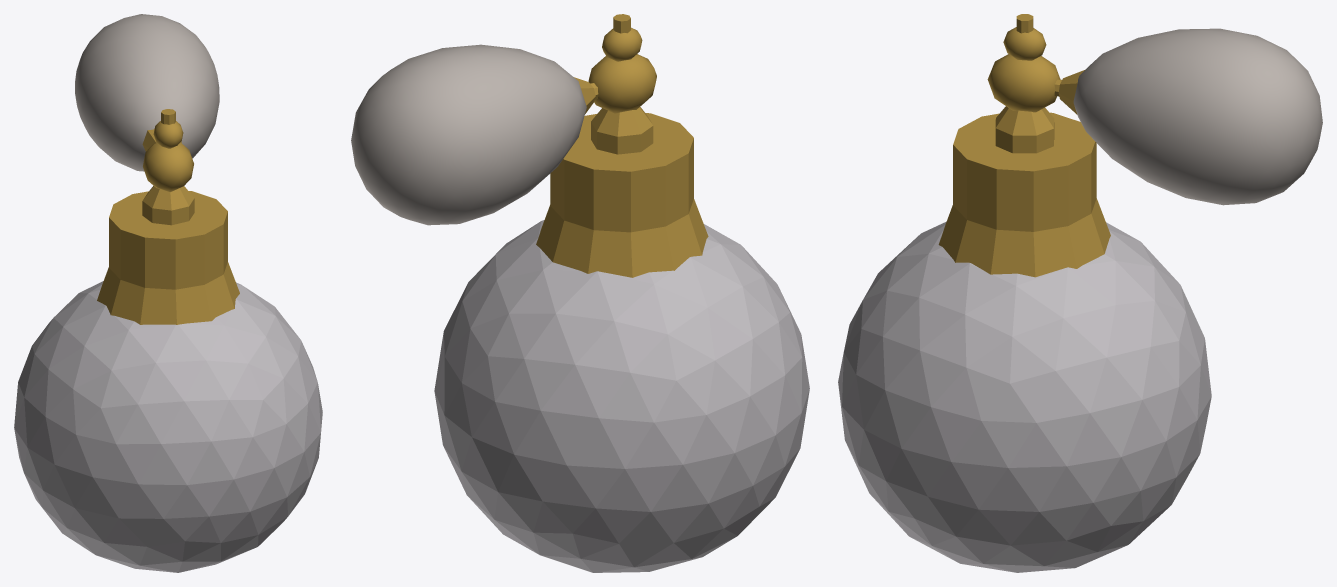
File: 4cbc524f-5d9e-4c57-bd07-07ec2e610181.glb
The picture shows the model from 3 angles, left to right: view 1: azimuth 30°, elevation 25°; view 2: azimuth 150°, elevation 25°; view 3: azimuth 270°, elevation 25°; orthographic projection. The views are drawn at different scales.
Visible parts, largest first — view 1: Icosphere.001_Icosphere.002; view 2: Icosphere.001_Icosphere.002; view 3: Icosphere.001_Icosphere.002.
Boxes of the visible parts, x1,y1,x2,y2 form: Icosphere.001_Icosphere.002: (14, 14, 322, 572); Icosphere.001_Icosphere.002: (351, 14, 809, 572); Icosphere.001_Icosphere.002: (838, 14, 1322, 572).
Size of the model in its own units: 2.24 by 3.58 by 2.9.
